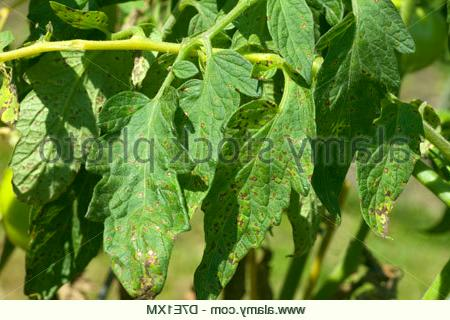Tomato Septoria leaf spot: (196, 65, 324, 301), (79, 80, 188, 303), (7, 39, 139, 204), (173, 45, 251, 193), (357, 92, 430, 247)
